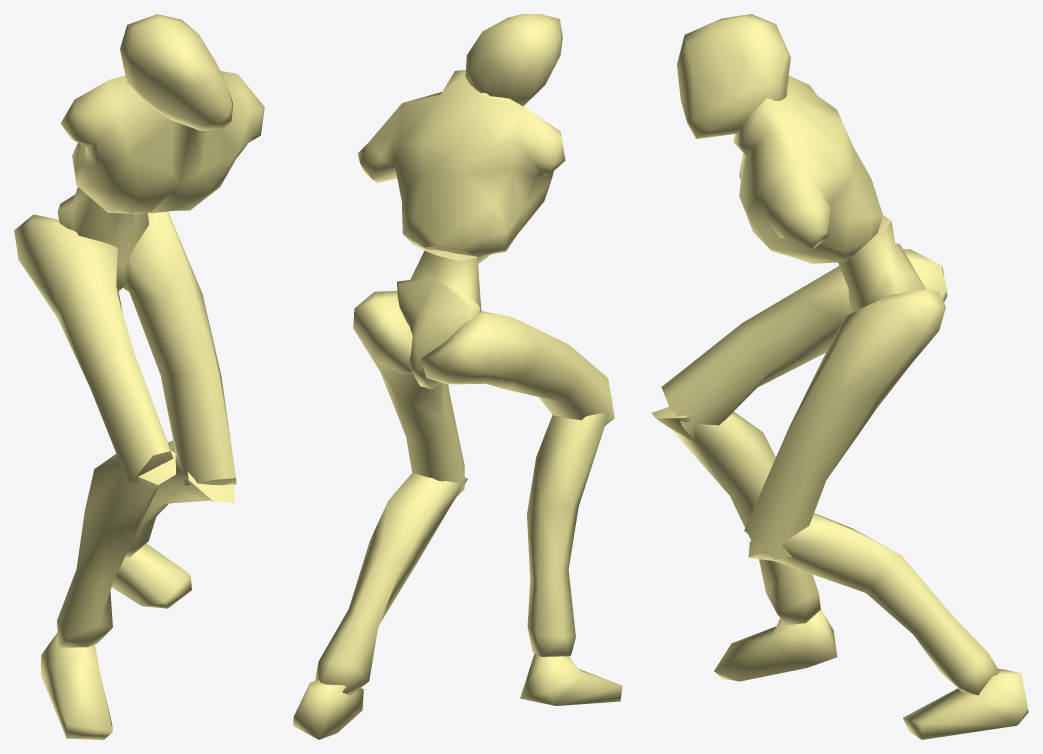
File: filth31.obj
3 views of the same model, side by side, from view 1: azimuth 30°, elevation 25°; view 2: azimuth 150°, elevation 25°; view 3: azimuth 270°, elevation 25° (orthographic). The views are drawn at different scales.
Visible parts, largest first — view 1: Melee_Husk; view 2: Melee_Husk; view 3: Melee_Husk.
Boxes of the visible parts, bbox=[...] form: Melee_Husk: bbox=[14, 14, 264, 739]; Melee_Husk: bbox=[293, 14, 622, 739]; Melee_Husk: bbox=[651, 14, 1028, 739].
Size of the model in its own units: 23.41 by 66.8 by 32.94.
